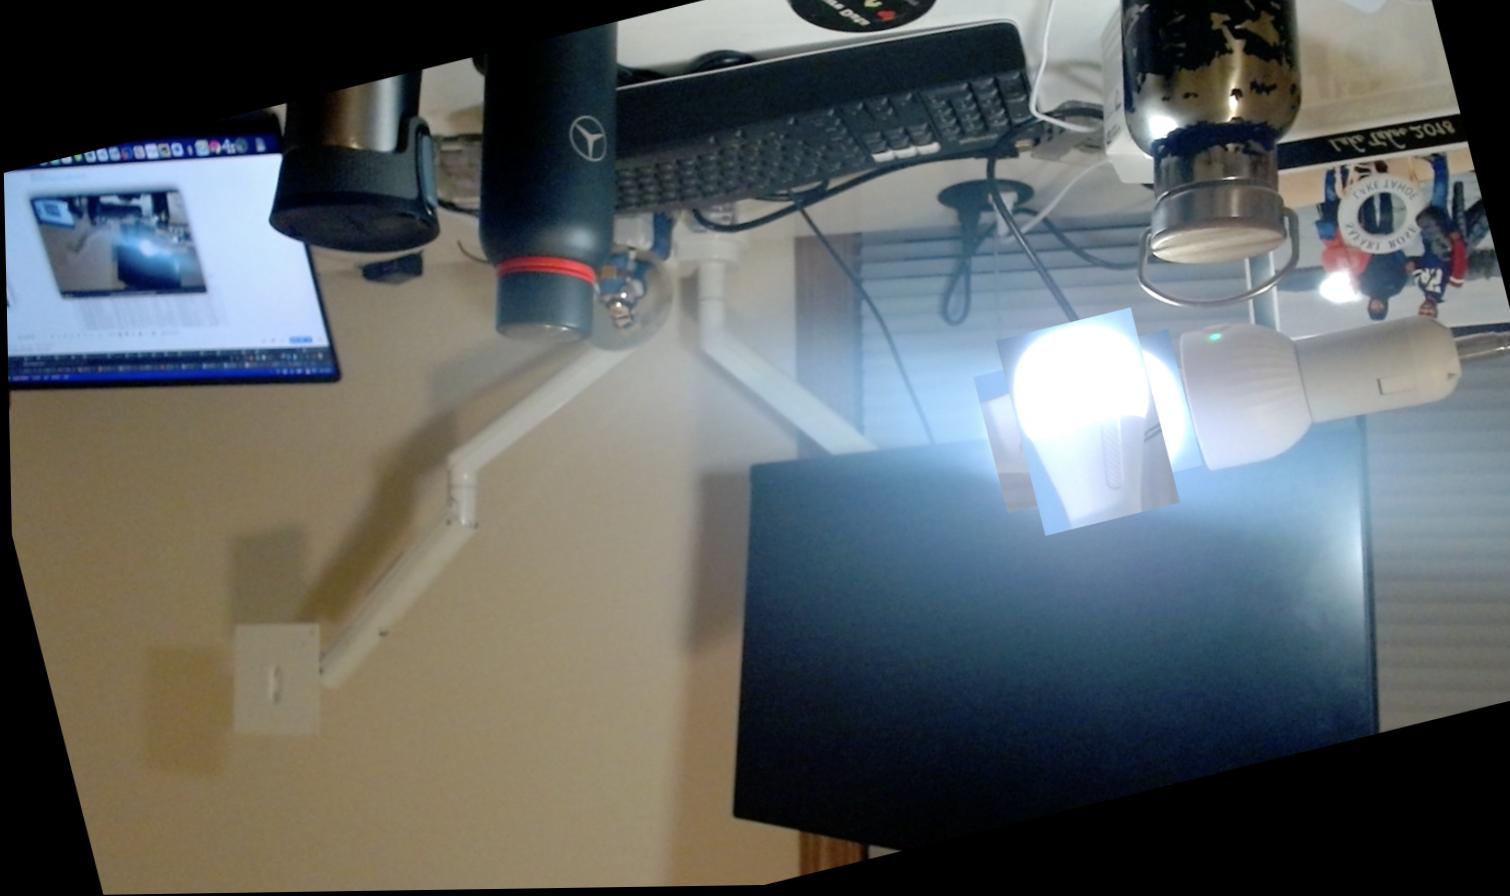TubeLight: (982, 321, 1190, 528)
